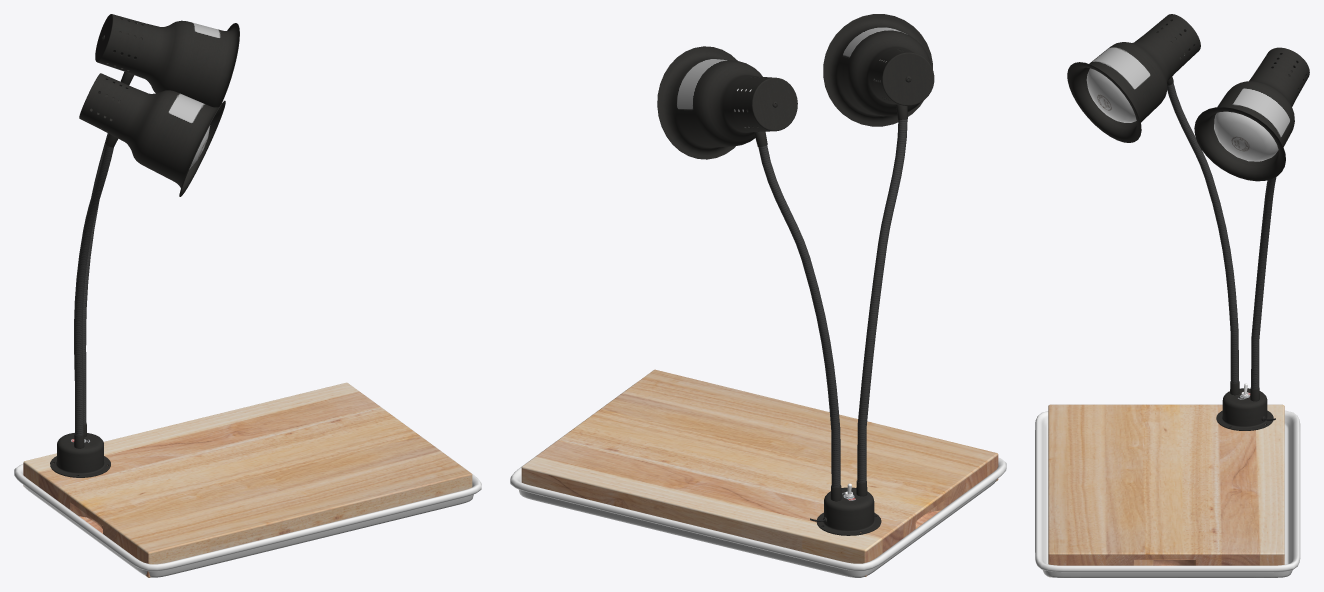
3 renders of one model, left to right at view 1: azimuth 30°, elevation 25°; view 2: azimuth 150°, elevation 25°; view 3: azimuth 270°, elevation 25°, orthographic. The views are drawn at different scales.
Visible parts, largest first — view 1: SKU_164WCB1624, 177HLDBL24BK, 407BUNFULL; view 2: SKU_164WCB1624, 177HLDBL24BK, 407BUNFULL; view 3: SKU_164WCB1624, 177HLDBL24BK, 407BUNFULL.
Boxes of the visible parts, x1=… form: SKU_164WCB1624: x1=23, y1=382, x2=472, y2=577; 177HLDBL24BK: x1=50, y1=14, x2=239, y2=477; 407BUNFULL: x1=14, y1=396, x2=481, y2=577; SKU_164WCB1624: x1=521, y1=369, x2=998, y2=576; 177HLDBL24BK: x1=657, y1=14, x2=934, y2=535; 407BUNFULL: x1=510, y1=383, x2=1006, y2=577; SKU_164WCB1624: x1=1048, y1=404, x2=1284, y2=577; 177HLDBL24BK: x1=1067, y1=14, x2=1309, y2=430; 407BUNFULL: x1=1035, y1=410, x2=1300, y2=577.
Size of the model in its own units: 63.96 by 79.51 by 46.87.
Materials: 3 (3 with a texture image).
